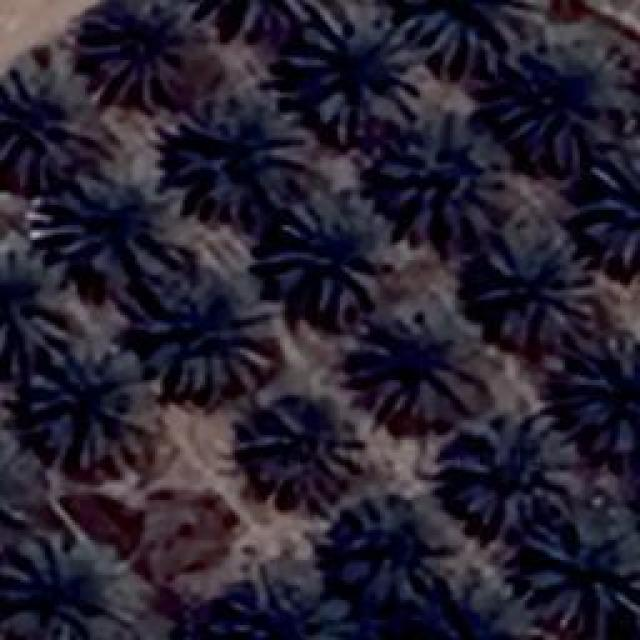PalmTree: (55, 89, 613, 211), (108, 30, 484, 89), (170, 82, 315, 220), (280, 2, 422, 140), (380, 115, 515, 250), (262, 187, 400, 315), (30, 342, 160, 472), (498, 40, 630, 168), (360, 300, 495, 425), (450, 407, 580, 535), (140, 275, 275, 395), (40, 160, 175, 278), (238, 387, 360, 515), (478, 220, 600, 348), (2, 530, 148, 635), (338, 484, 460, 608), (520, 510, 638, 632), (74, 0, 188, 110), (210, 570, 358, 640), (560, 330, 638, 460), (0, 68, 85, 178), (0, 250, 70, 352), (413, 593, 532, 640), (196, 0, 324, 34), (0, 428, 31, 542), (0, 426, 19, 544)
